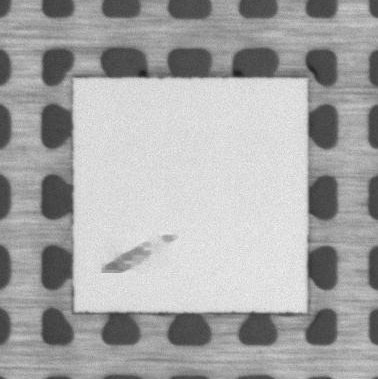DIE_INK: (100, 231, 179, 273)
